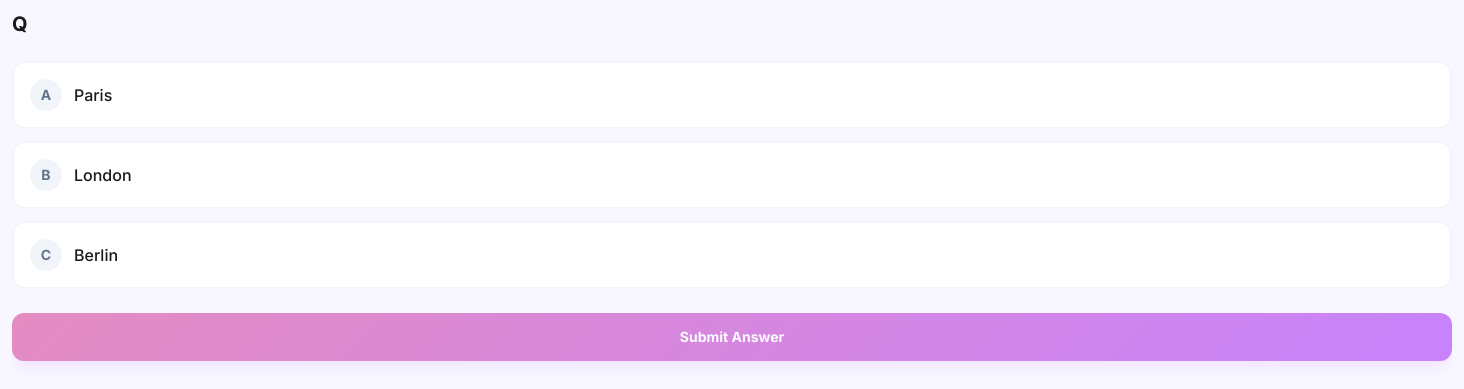
Test: MCQCard › shows correct/incorrect styling and hides the submit button after submitting a wrong answer
The image size is (1464, 389).
Click the text "London" at point(103, 175), box [74,163,132,187]
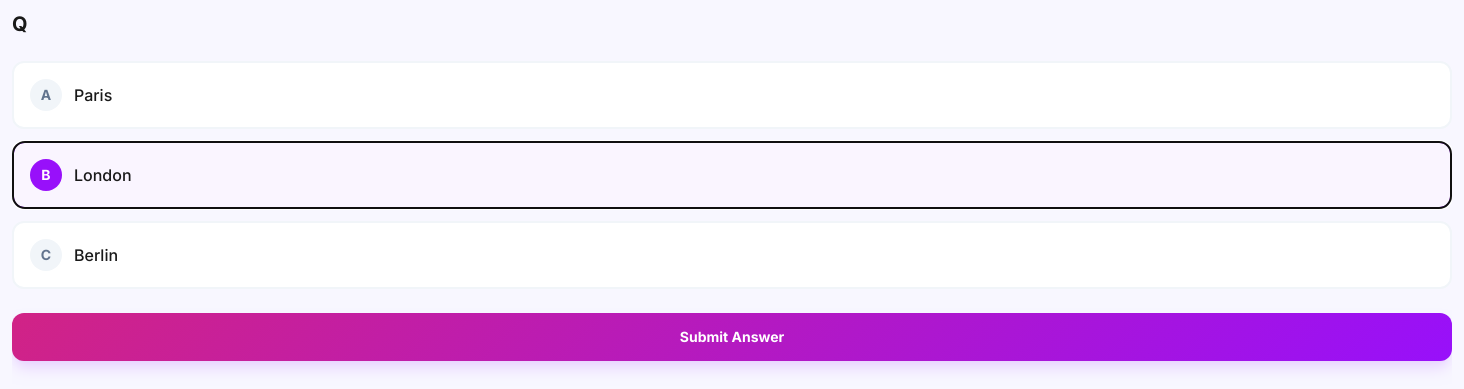
Click the button "Submit Answer" at point(732, 337), box [12,313,1452,361]
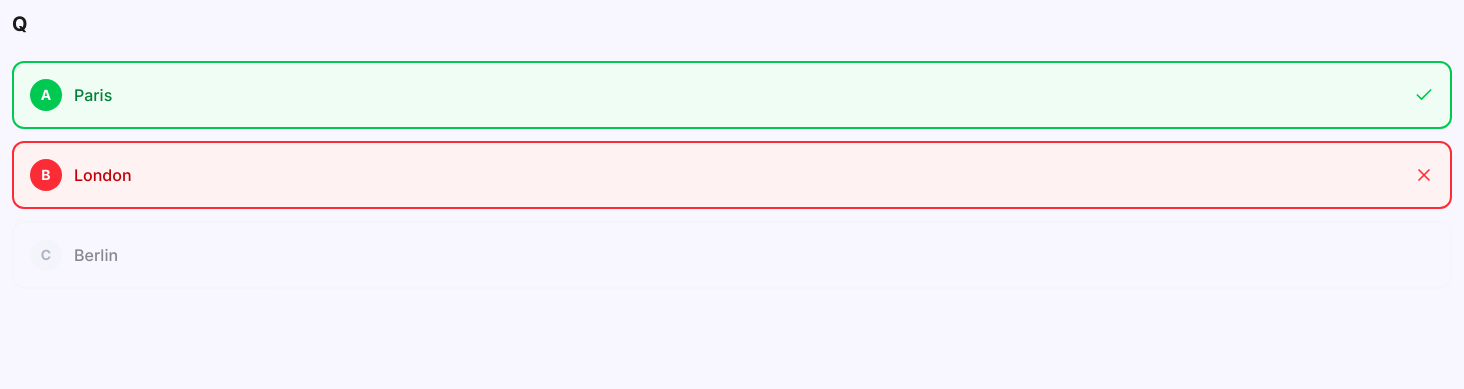
Expected: the button "A Paris" is shown, [12,61,1452,129]
Now the button "Submit Answer" is gone
